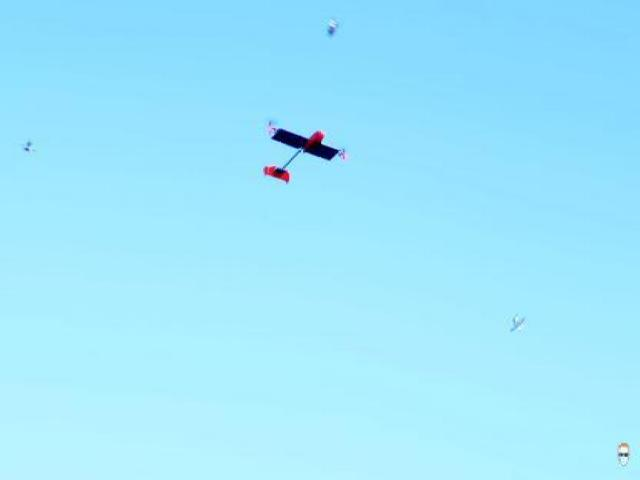uav: (252, 112, 356, 186)
